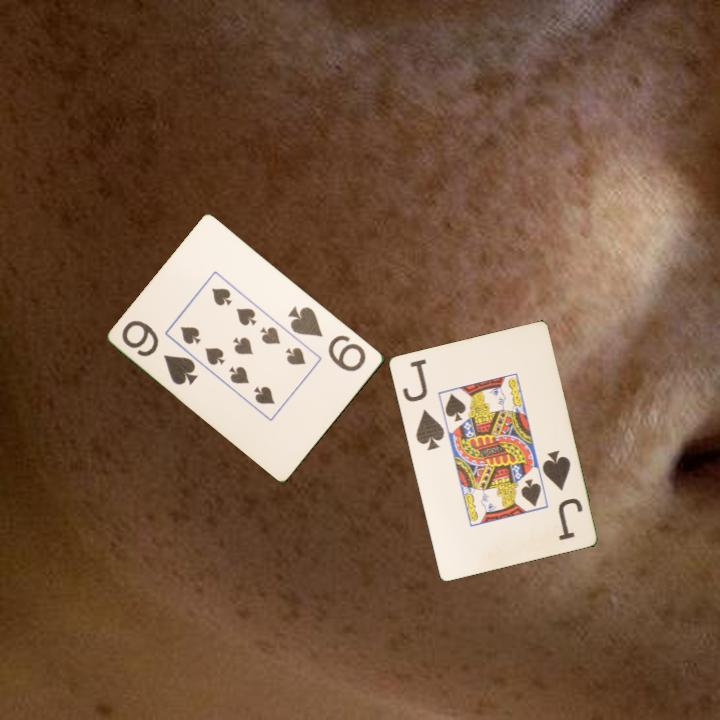9s: (285, 302, 369, 375), (118, 316, 202, 388)
Js: (398, 355, 447, 453), (538, 446, 586, 543)
